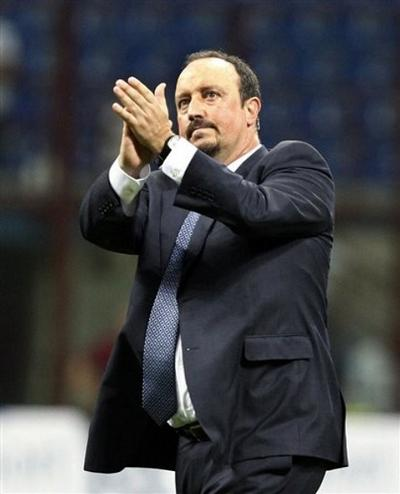person: (80, 50, 349, 494)
